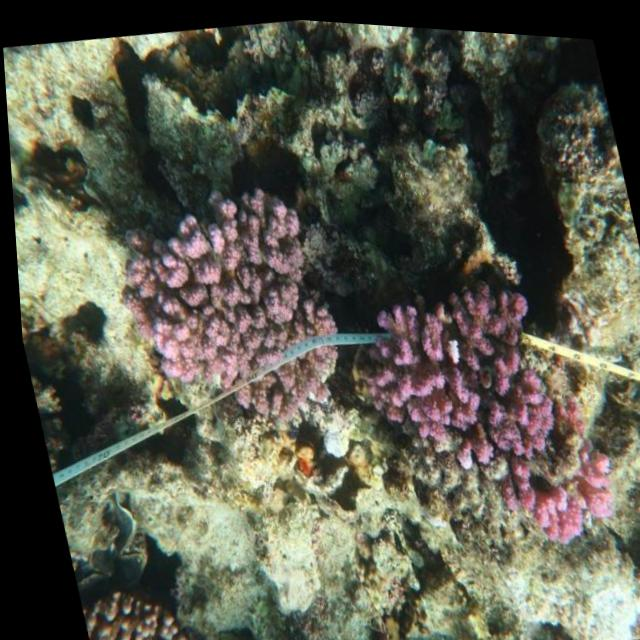Healthy Coral: (335, 242, 619, 571), (95, 177, 351, 446), (69, 582, 190, 640)
